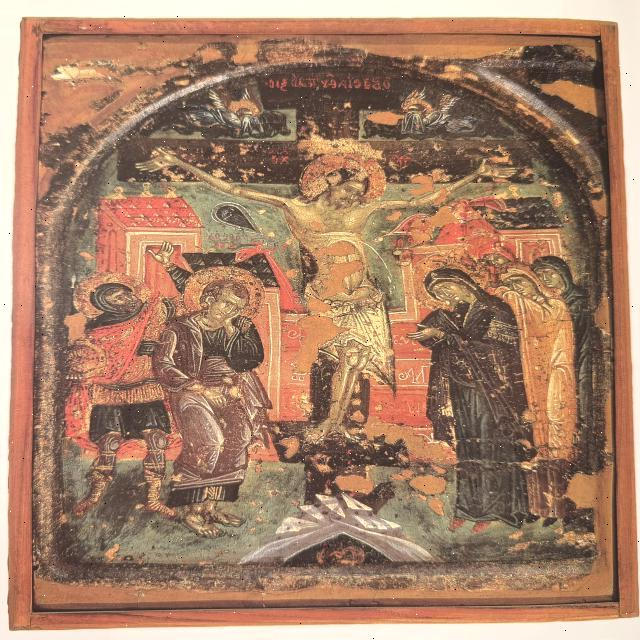aura: (298, 150, 390, 211), (414, 250, 498, 314), (182, 266, 264, 331), (72, 270, 147, 326)
christ_crucifiction: (105, 107, 541, 512)
mary: (404, 246, 534, 548)
saint: (148, 254, 270, 546), (65, 267, 169, 524)
